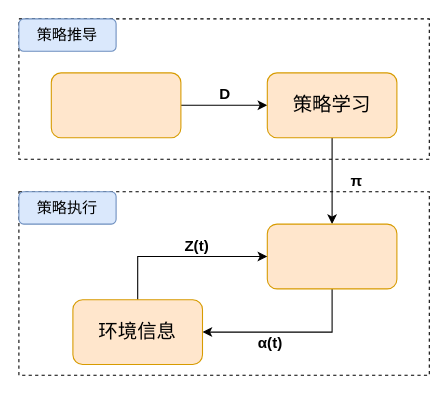
Some shapes in this 448 by 394 pixel diagram are drawn without their labels. The centre of each missing label's shape, as x and y in pixels:
策略生成: point (331, 256)
运动演示: point (115, 105)
